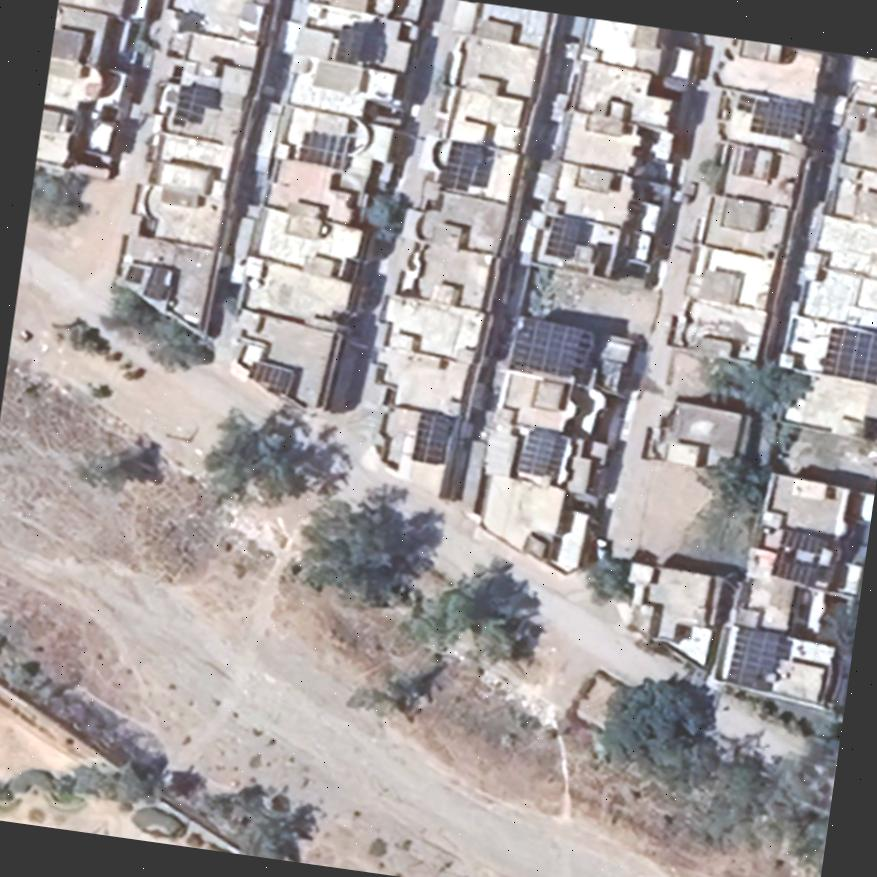Solarpanel: (509, 313, 596, 380), (768, 522, 843, 593), (719, 623, 789, 695), (731, 89, 811, 143), (816, 321, 877, 385), (512, 422, 572, 482), (291, 123, 358, 172), (409, 404, 459, 468), (434, 135, 485, 196), (244, 355, 298, 399), (542, 209, 588, 260), (173, 79, 214, 128), (330, 21, 369, 67), (139, 256, 176, 303), (122, 259, 146, 285)
